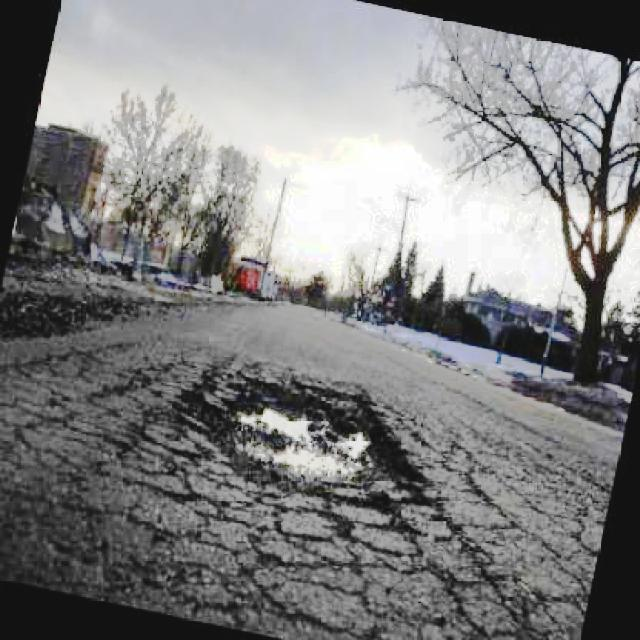pothole: (195, 368, 420, 502)
